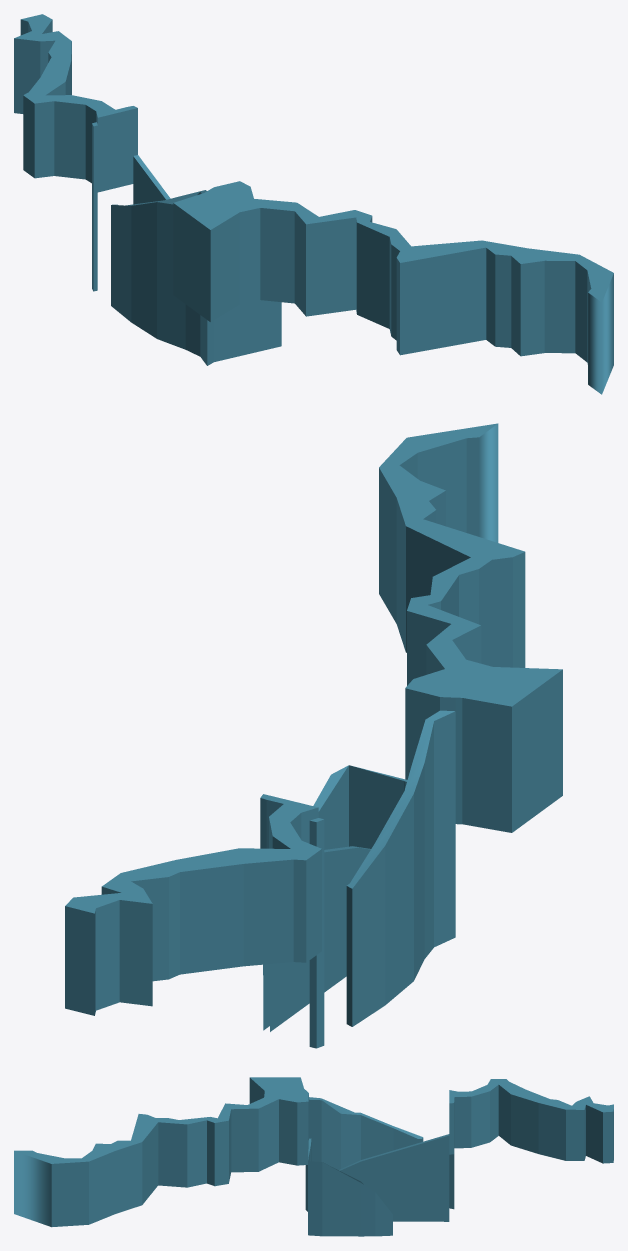
Rendered from Upper_Island_Borders.fbx.
The picture shows the model from 3 angles, top to bottom: view 1: azimuth 30°, elevation 25°; view 2: azimuth 150°, elevation 25°; view 3: azimuth 270°, elevation 25°; orthographic projection. The views are drawn at different scales.
Parts seen in each view (by area): view 1: polySurface4, polySurface3, polySurface2; view 2: polySurface4, polySurface3, polySurface2; view 3: polySurface4, polySurface3, polySurface2.
Part boxes in pixels (x1,y1,x2,y2): polySurface4: (173,181,613,394); polySurface3: (92,122,281,365); polySurface2: (14,14,137,192); polySurface4: (379,423,562,832); polySurface3: (263,710,455,1048); polySurface2: (65,794,321,1015); polySurface4: (14,1077,308,1227); polySurface3: (305,1097,454,1236); polySurface2: (449,1079,613,1163).
Bounding box in the file's own units: 65.07 × 42.06 × 191.
